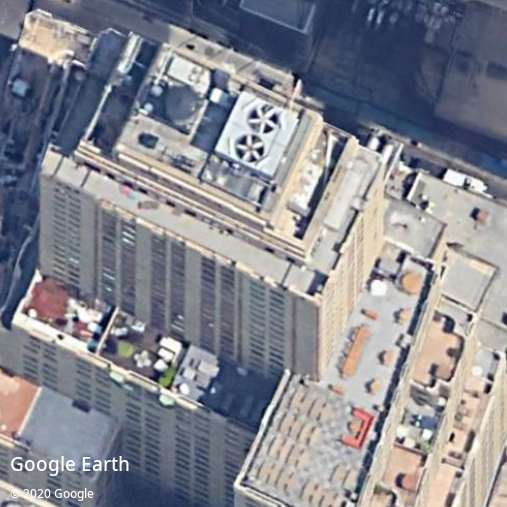Vent: (248, 104, 278, 133), (235, 134, 265, 163)
